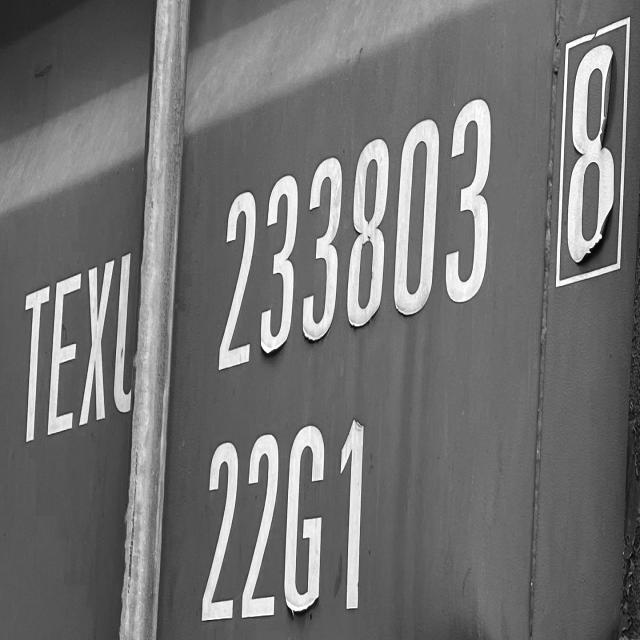dv: (550, 10, 632, 297)
owner: (7, 234, 160, 446)
serial: (195, 69, 511, 381)
size: (176, 411, 397, 640)
